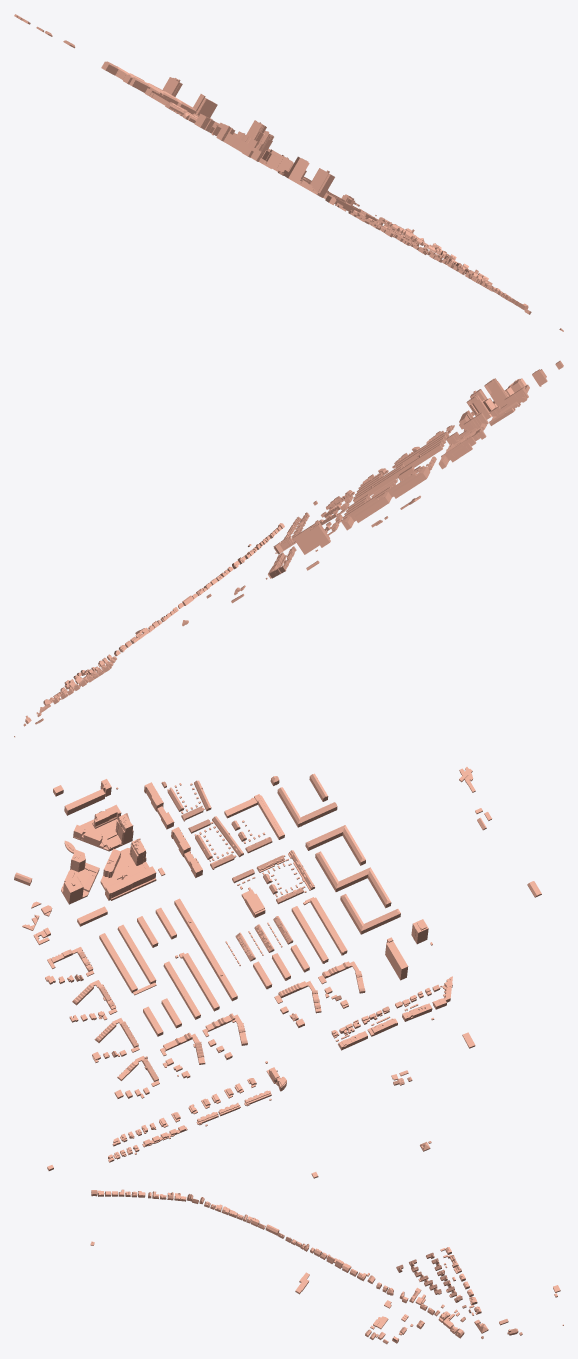
3 views of the same model, one above another, from view 1: azimuth 30°, elevation 25°; view 2: azimuth 150°, elevation 25°; view 3: azimuth 270°, elevation 25° (orthographic). The views are drawn at different scales.
Size of the model in its own units: 3.21e+07 by 2.47e+07 by 3.37e+07.
